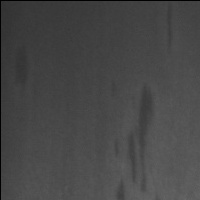inclusion: (108, 82, 157, 200), (10, 40, 38, 93), (159, 1, 178, 58), (101, 72, 121, 105)
